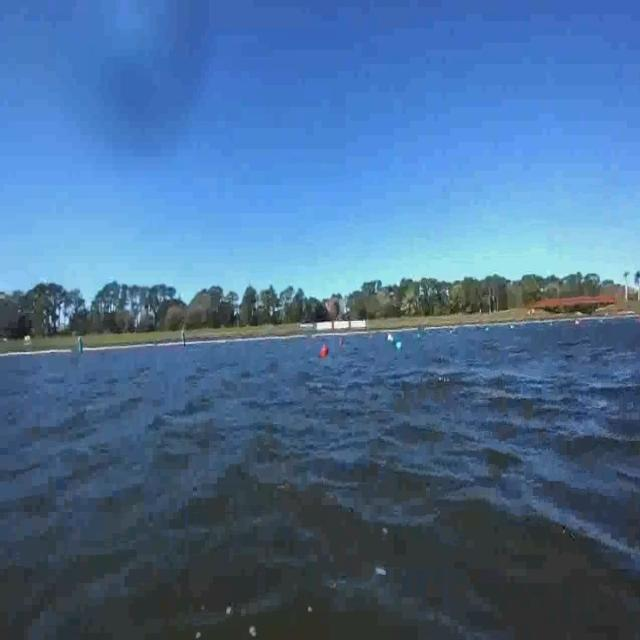red-buoy: (320, 345, 328, 359)
